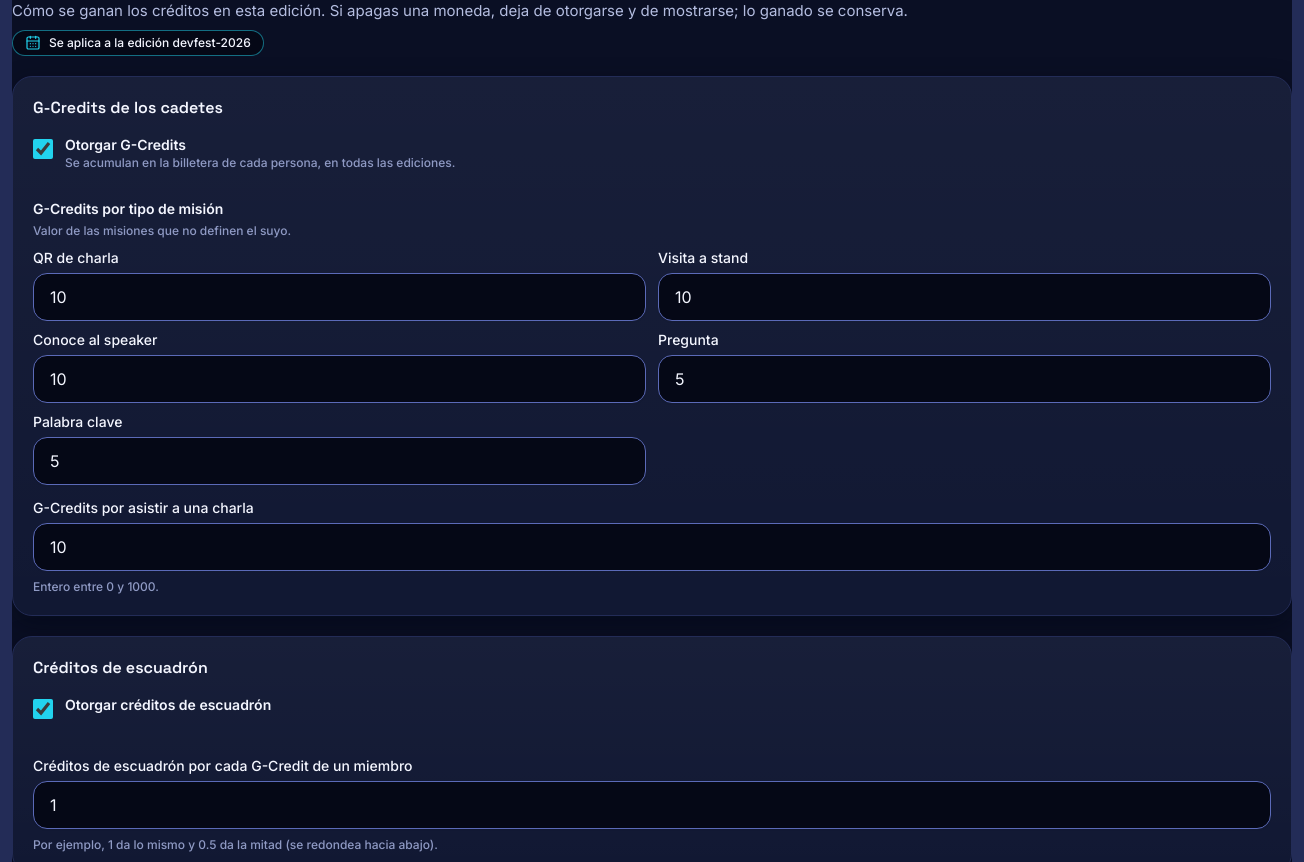
EconomySettingsView › switches a currency off, which disables its values
The image size is (1304, 862).
Click the checkbox labelled "Otorgar G-Credits".
click(43, 149)  # box 33,139 -> 53,159
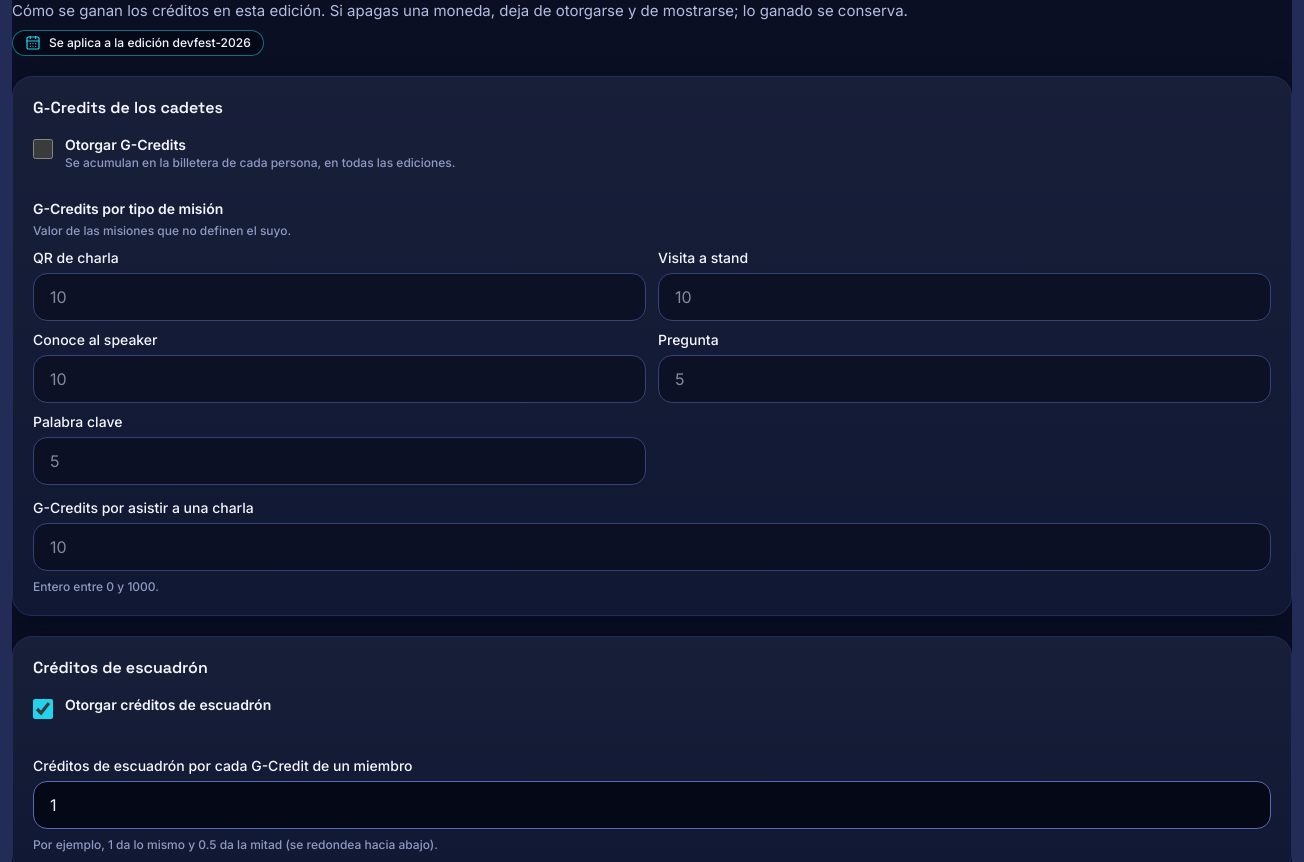
Click the checkbox labelled "Otorgar créditos de escuadrón".
click(43, 709)  # box 33,699 -> 53,719
(page scrolled)
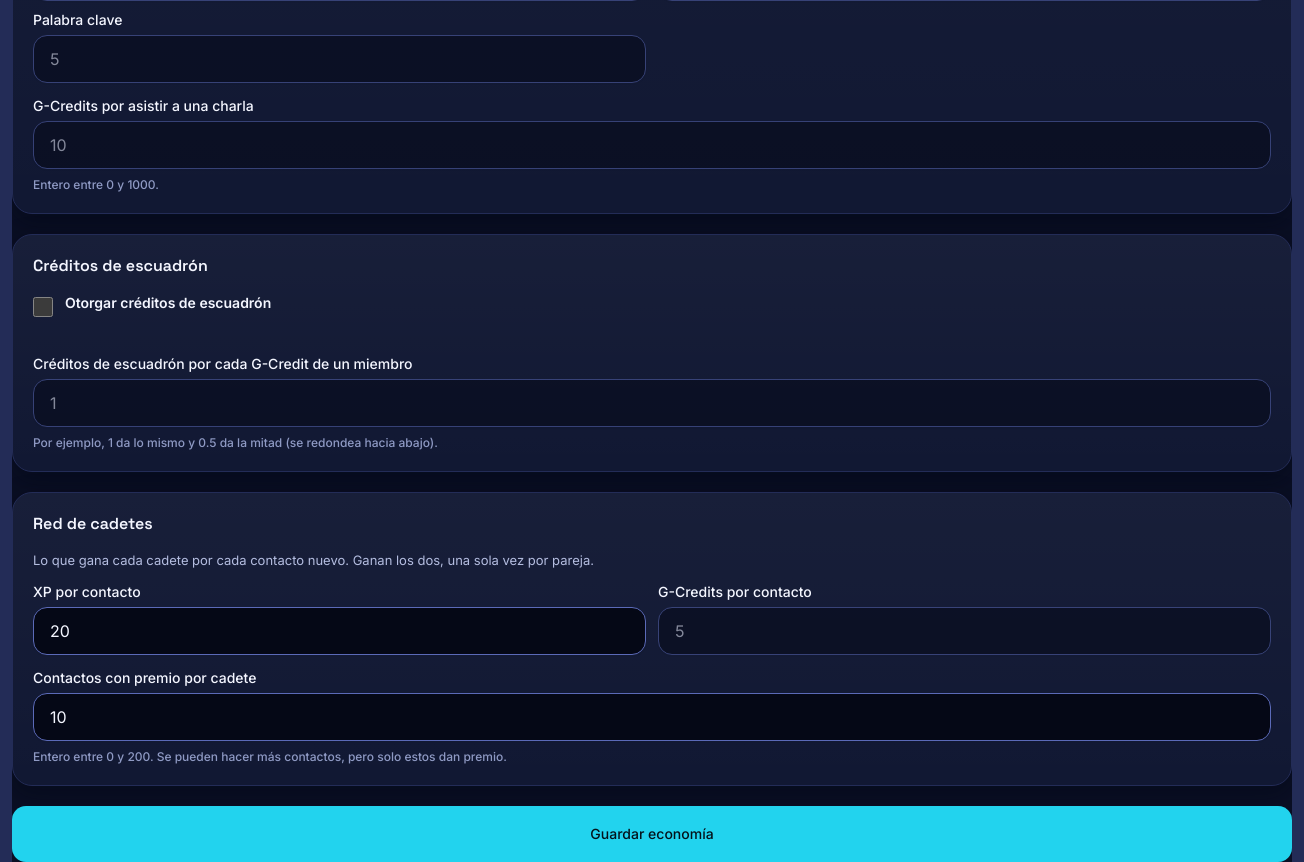
Expected: the field labelled "G-Credits por asistir a una charla" is disabled, 33,121 -> 1271,169
Expected: the field labelled "G-Credits por contacto" is disabled, 658,607 -> 1271,655
Expected: the field labelled "Créditos de escuadrón por cada G-Credit de un miembro" is disabled, 33,379 -> 1271,427
